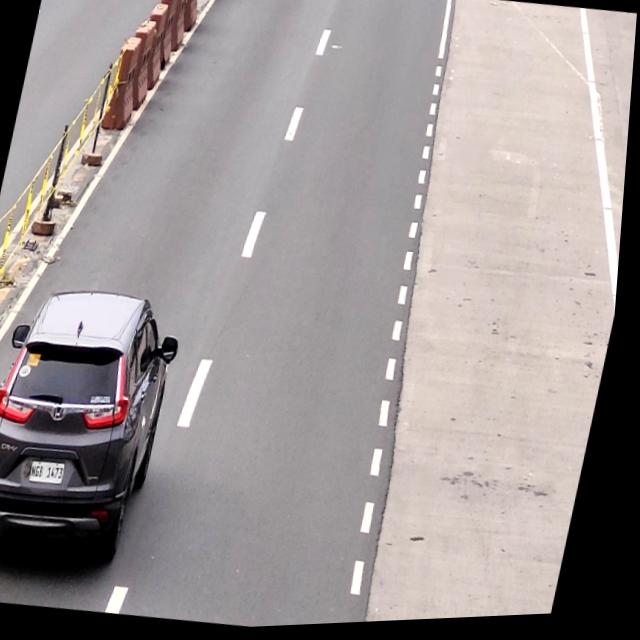Car: (0, 284, 193, 571)
License-Plate: (34, 458, 75, 487)
